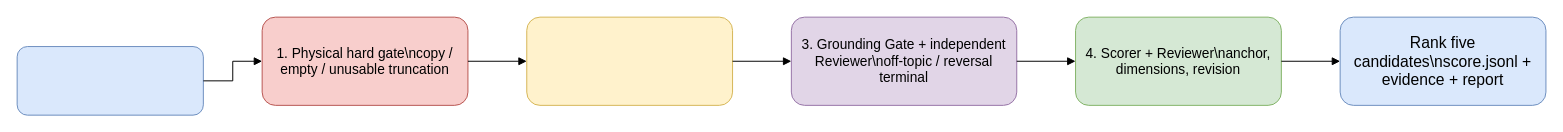
The diagram is 1563 pixels wide and 132 high, and some of its shapes have lost their labels. Here are the shapes that lost their labels. From the top down, the centre of each, then its label:
the point at 109,80: Article + candidate summary\n(runtime input only)
the point at 629,60: 2. Assigned-article embedding\nadvisory suspect only
